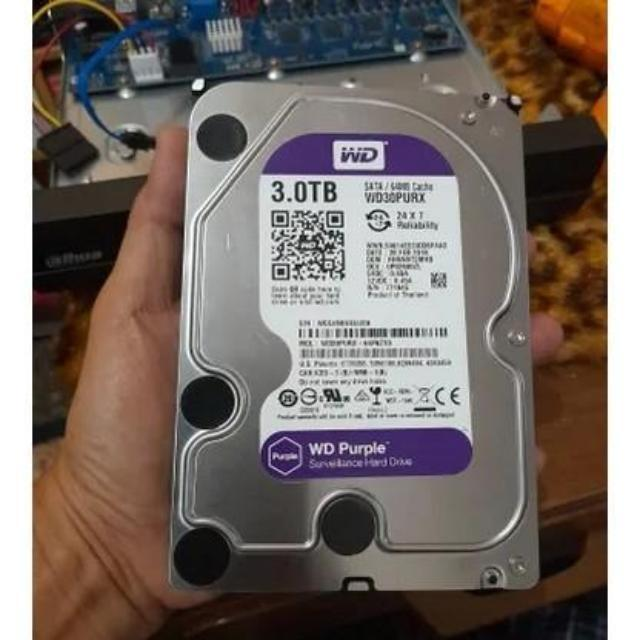DISK: (177, 78, 540, 594)
